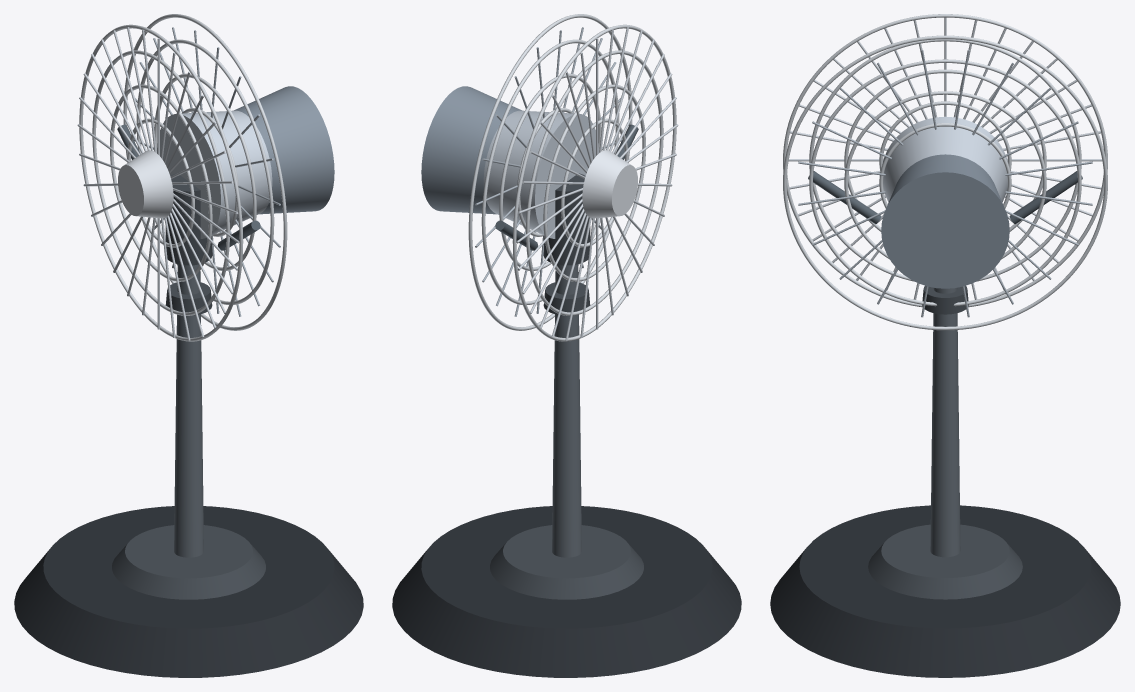
Rendered from fan-body.glb.
3 views of the same model, side by side, from view 1: azimuth 30°, elevation 25°; view 2: azimuth 150°, elevation 25°; view 3: azimuth 270°, elevation 25° (orthographic).
Visible parts, largest first — view 1: heavy elliptical fan base, concentric fan grille ring (×7), raised base collar, rear motor cap, main motor pod, telescopic stand pole, center nose hub, tilt hinge, height lock ring; view 2: heavy elliptical fan base, concentric fan grille ring (×7), raised base collar, rear motor cap, main motor pod, telescopic stand pole, center nose hub, tilt hinge, height lock ring; view 3: heavy elliptical fan base, concentric fan grille ring (×8), rear motor cap, raised base collar, telescopic stand pole, main motor pod, height lock ring, left yoke support, right yoke support.
Part boxes in pixels (x1=…): heavy elliptical fan base: x1=14, y1=506, x2=363, y2=677; concentric fan grille ring (×7): x1=79, y1=14, x2=287, y2=341; raised base collar: x1=112, y1=525, x2=265, y2=599; rear motor cap: x1=234, y1=86, x2=334, y2=214; main motor pod: x1=157, y1=110, x2=272, y2=238; telescopic stand pole: x1=174, y1=264, x2=203, y2=557; center nose hub: x1=118, y1=150, x2=173, y2=218; tilt hinge: x1=165, y1=173, x2=212, y2=265; height lock ring: x1=165, y1=282, x2=212, y2=315; heavy elliptical fan base: x1=392, y1=506, x2=741, y2=677; concentric fan grille ring (×7): x1=468, y1=14, x2=676, y2=341; raised base collar: x1=490, y1=525, x2=643, y2=599; rear motor cap: x1=421, y1=86, x2=521, y2=214; main motor pod: x1=483, y1=110, x2=598, y2=238; telescopic stand pole: x1=552, y1=264, x2=581, y2=557; center nose hub: x1=582, y1=150, x2=637, y2=218; tilt hinge: x1=543, y1=173, x2=590, y2=265; height lock ring: x1=543, y1=282, x2=590, y2=315; heavy elliptical fan base: x1=770, y1=505, x2=1120, y2=677; concentric fan grille ring (×8): x1=783, y1=14, x2=1107, y2=330; rear motor cap: x1=881, y1=154, x2=1009, y2=288; raised base collar: x1=868, y1=524, x2=1022, y2=599; telescopic stand pole: x1=930, y1=288, x2=960, y2=557; main motor pod: x1=882, y1=116, x2=1008, y2=202; height lock ring: x1=922, y1=285, x2=968, y2=314; left yoke support: x1=1009, y1=171, x2=1082, y2=224; right yoke support: x1=808, y1=171, x2=881, y2=224.
Bounding box in the file's own units: 1.2 × 2.18 × 1.2.
